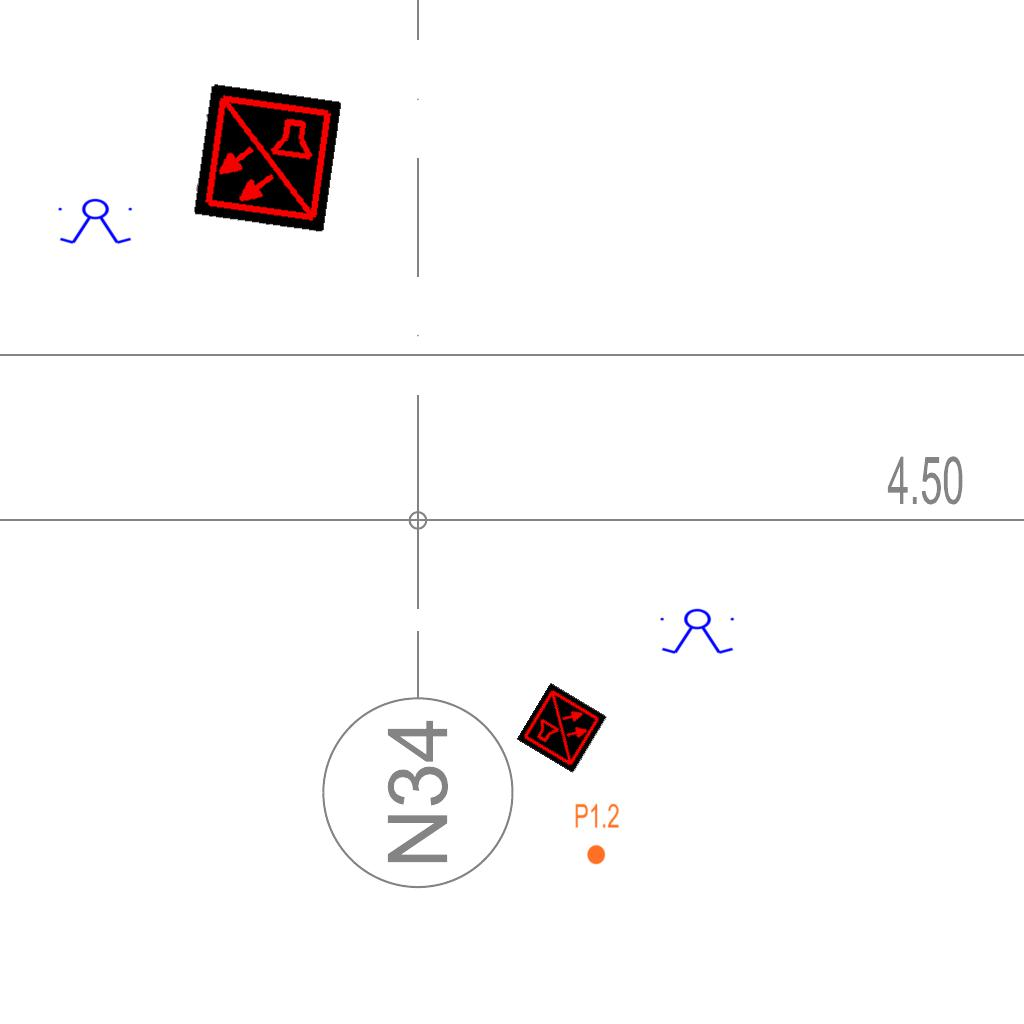Downlight_LED_Einbauleuchten_Flur: (574, 802, 620, 866)
OKW_Multisensormelder_(Kombination_optischer_Rauch-Kahlenmonoxid_Waerme-Melder): (192, 83, 342, 233), (516, 682, 608, 774)
Serienschalter: (656, 608, 740, 656), (54, 198, 138, 246)
